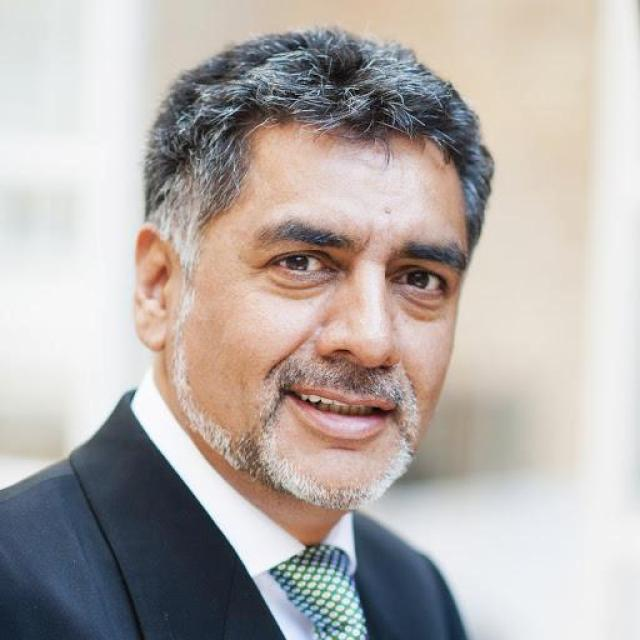no-earmuff: (131, 222, 171, 352)
